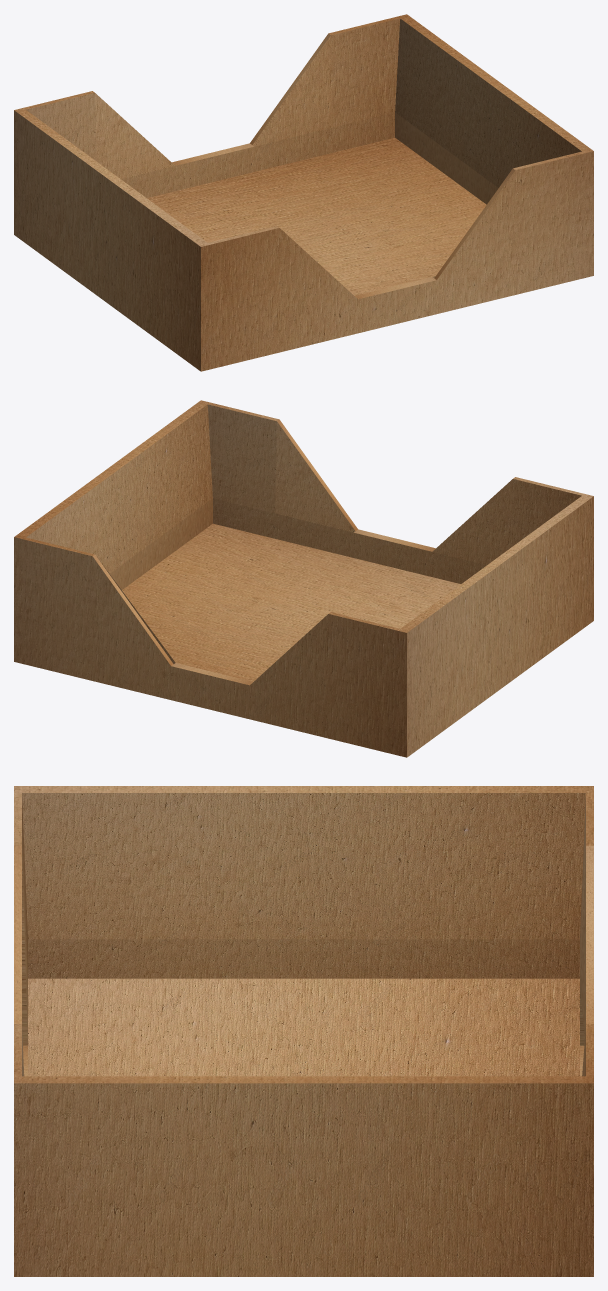
File: cartonBox v2.fbx
3 renders of one model, top to bottom at view 1: azimuth 30°, elevation 25°; view 2: azimuth 150°, elevation 25°; view 3: azimuth 270°, elevation 25°, orthographic. The views are drawn at different scales.
Parts seen in each view (by area): view 1: Cube; view 2: Cube; view 3: Cube.
Boxes of the visible parts, x1,y1,x2,y2 form: Cube: (14, 14, 593, 371); Cube: (14, 400, 593, 757); Cube: (14, 786, 593, 1276).
Bounding box in the file's own units: 362 × 110 × 298.
1 material, 1 textured.
